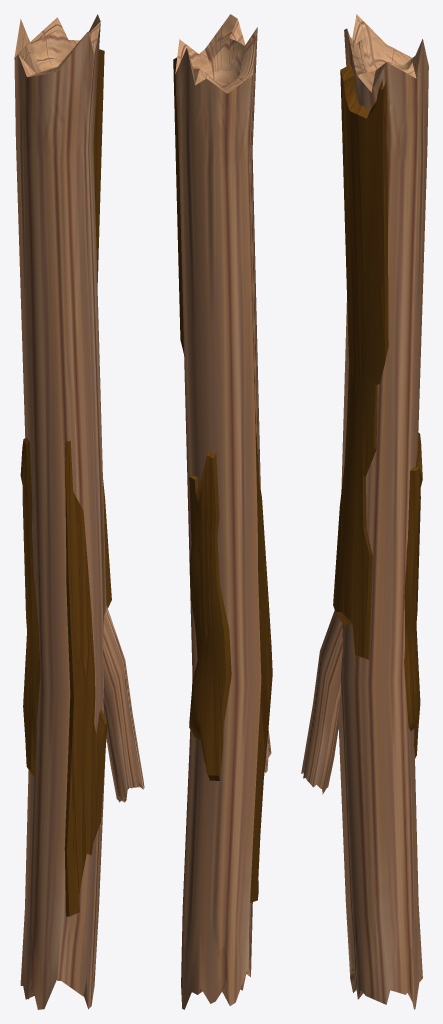
The model's file is p_mesh_hvs_leafy_log03.fbx.
The picture shows the model from 3 angles, left to right: view 1: azimuth 90°, elevation 25°; view 2: azimuth 150°, elevation 25°; view 3: azimuth 270°, elevation 25°; orthographic projection.
Visible parts, largest first — view 1: p_mesh_leafy_log1.001; view 2: p_mesh_leafy_log1.001; view 3: p_mesh_leafy_log1.001.
Part boxes in pixels (x1,y1,x2,y2): p_mesh_leafy_log1.001: (14,14,144,1009); p_mesh_leafy_log1.001: (173,14,272,1009); p_mesh_leafy_log1.001: (301,14,428,1009).
Bounding box in the file's own units: 0.6149 × 6.34 × 0.7534.
1 material, 1 textured.
